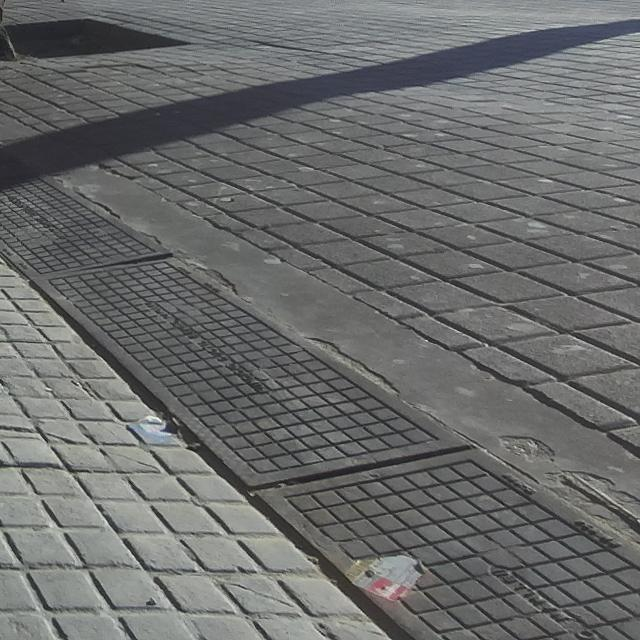calcada_quebrada: (219, 575, 297, 612), (0, 422, 92, 450)
